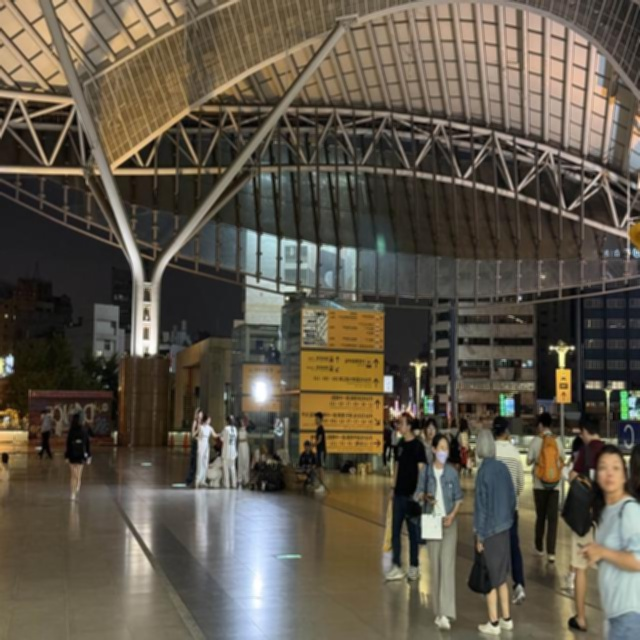Sin_Casco_Mascarrilla: (475, 429, 494, 459), (431, 435, 449, 463), (397, 412, 411, 436), (424, 418, 436, 440), (314, 412, 323, 425)
